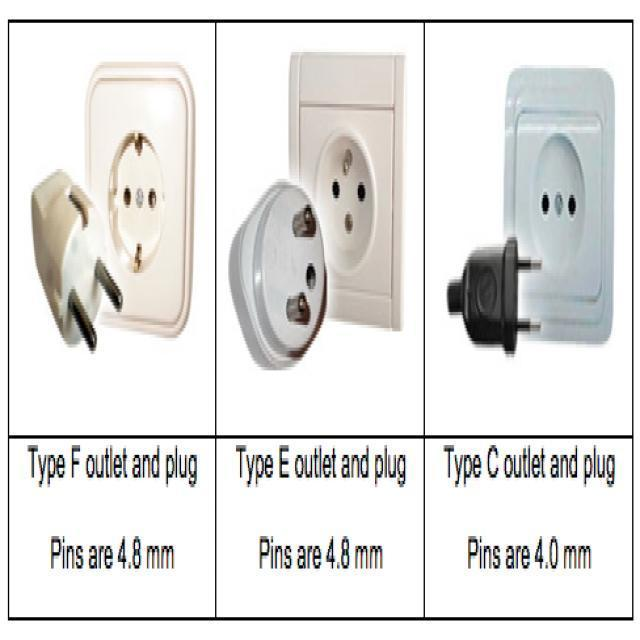typeb: (76, 61, 197, 342)
